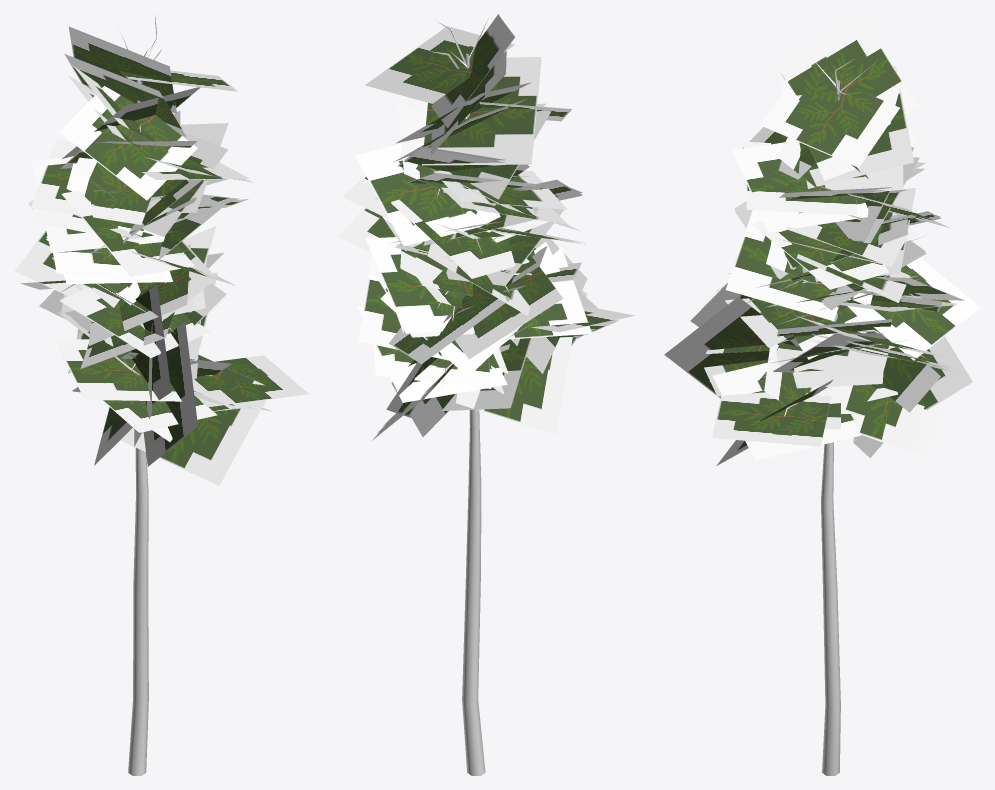
Rendered from SpruceTall_Final.fbx.
3 renders of one model, left to right at view 1: azimuth 30°, elevation 25°; view 2: azimuth 150°, elevation 25°; view 3: azimuth 270°, elevation 25°, orthographic. The views are drawn at different scales.
Visible parts, largest first — view 1: SpruceTallFinal_LOD0; view 2: SpruceTallFinal_LOD0; view 3: SpruceTallFinal_LOD0.
Boxes of the visible parts, bbox=[...] form: SpruceTallFinal_LOD0: bbox=[15, 17, 308, 775]; SpruceTallFinal_LOD0: bbox=[338, 14, 634, 775]; SpruceTallFinal_LOD0: bbox=[664, 14, 980, 775].
Size of what is drawn, in the model's own units: 1055 by 3330 by 1303.
